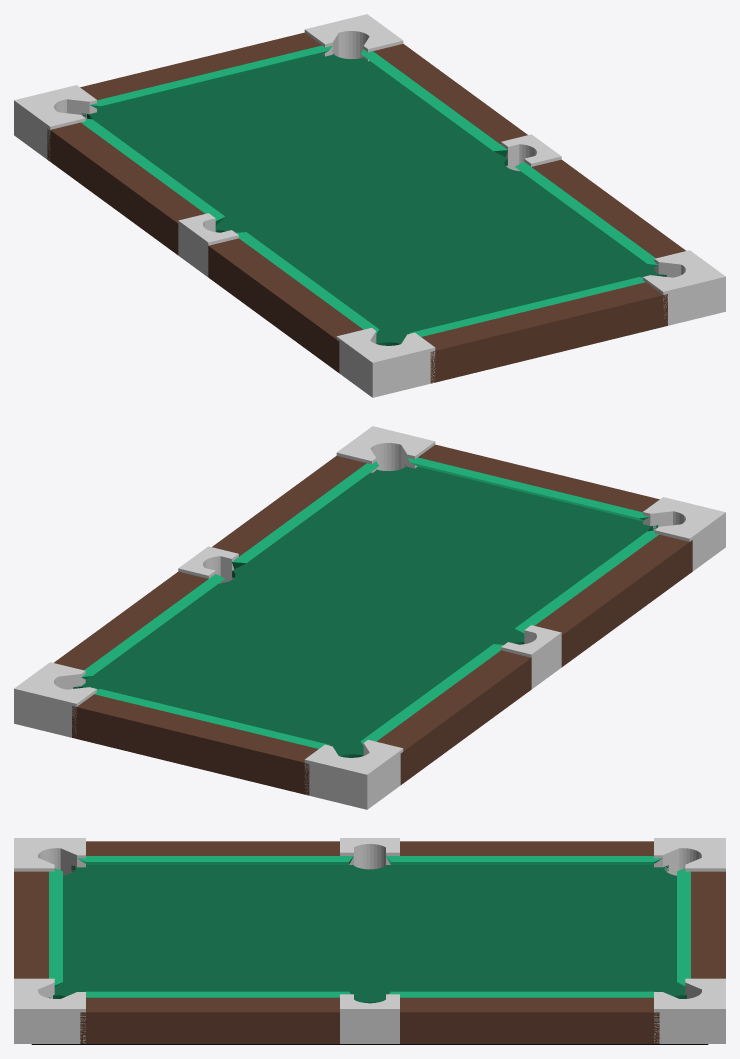
The model's file is table.glb.
The picture shows the model from 3 angles, top to bottom: view 1: azimuth 30°, elevation 25°; view 2: azimuth 150°, elevation 25°; view 3: azimuth 270°, elevation 25°; orthographic projection.
Visible parts, largest first — view 1: Table_Bed, Rail.006, Rail.001, Rail.002, Pocket_Liners.003, Pocket_Liners.006, Rail.004, Rail.003, Rail.005, Pocket_Liners.002, Pocket_Liners.005, Cushions.005 (+7 smaller); view 2: Table_Bed, Rail.004, Rail.002, Rail.001, Pocket_Liners.002, Pocket_Liners.005, Rail.006, Rail.005, Rail.003, Pocket_Liners.003, Pocket_Liners.006, Cushions.001 (+7 smaller); view 3: Table_Bed, Rail.003, Rail.005, Pocket_Liners.005, Pocket_Liners.006, Rail.001, Rail.002, Rail.004, Rail.006, Pocket_Liners.001, Cushions.002, Cushions.003 (+8 smaller).
Boxes of the visible parts, bbox=[...] form: Table_Bed: bbox=[82, 54, 666, 345]; Rail.006: bbox=[421, 282, 667, 383]; Rail.001: bbox=[47, 122, 204, 255]; Rail.002: bbox=[208, 238, 363, 372]; Pocket_Liners.003: bbox=[336, 327, 435, 397]; Pocket_Liners.006: bbox=[643, 250, 725, 325]; Rail.004: bbox=[80, 32, 321, 100]; Rail.003: bbox=[373, 44, 527, 144]; Rail.005: bbox=[531, 159, 685, 258]; Pocket_Liners.002: bbox=[14, 85, 96, 160]; Pocket_Liners.005: bbox=[304, 14, 403, 61]; Cushions.005: bbox=[90, 45, 332, 109]; Table_Bed: bbox=[73, 464, 658, 757]; Rail.004: bbox=[72, 694, 318, 795]; Rail.002: bbox=[535, 534, 692, 667]; Rail.001: bbox=[376, 650, 531, 784]; Pocket_Liners.002: bbox=[304, 739, 403, 809]; Pocket_Liners.005: bbox=[14, 662, 96, 737]; Rail.006: bbox=[418, 444, 659, 512]; Rail.005: bbox=[212, 456, 366, 556]; Rail.003: bbox=[54, 571, 208, 670]; Pocket_Liners.003: bbox=[643, 497, 725, 571]; Pocket_Liners.006: bbox=[336, 426, 435, 473]; Cushions.001: bbox=[407, 457, 649, 521]; Table_Bed: bbox=[49, 865, 686, 1003]; Rail.003: bbox=[400, 997, 659, 1043]; Rail.005: bbox=[80, 997, 339, 1043]; Pocket_Liners.005: bbox=[654, 978, 725, 1043]; Pocket_Liners.006: bbox=[14, 978, 85, 1043]; Rail.001: bbox=[400, 841, 653, 855]; Rail.002: bbox=[86, 841, 339, 855]; Rail.004: bbox=[691, 871, 725, 978]; Rail.006: bbox=[14, 871, 48, 978]; Pocket_Liners.001: bbox=[340, 994, 399, 1043]; Cushions.002: bbox=[386, 856, 662, 864]; Cushions.003: bbox=[77, 856, 353, 864].
Bounding box in the file's own units: 147 × 16.08 × 259.
